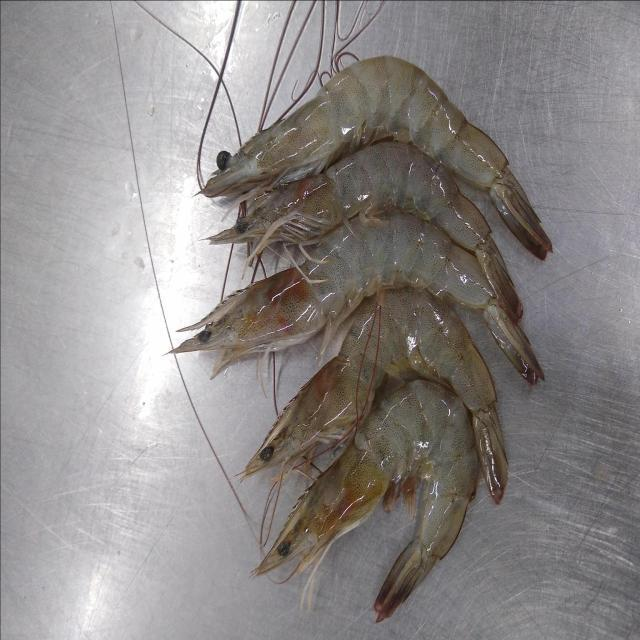shrimp: (201, 55, 552, 260), (174, 212, 544, 383), (209, 142, 522, 322), (244, 287, 504, 502), (254, 380, 479, 620)
